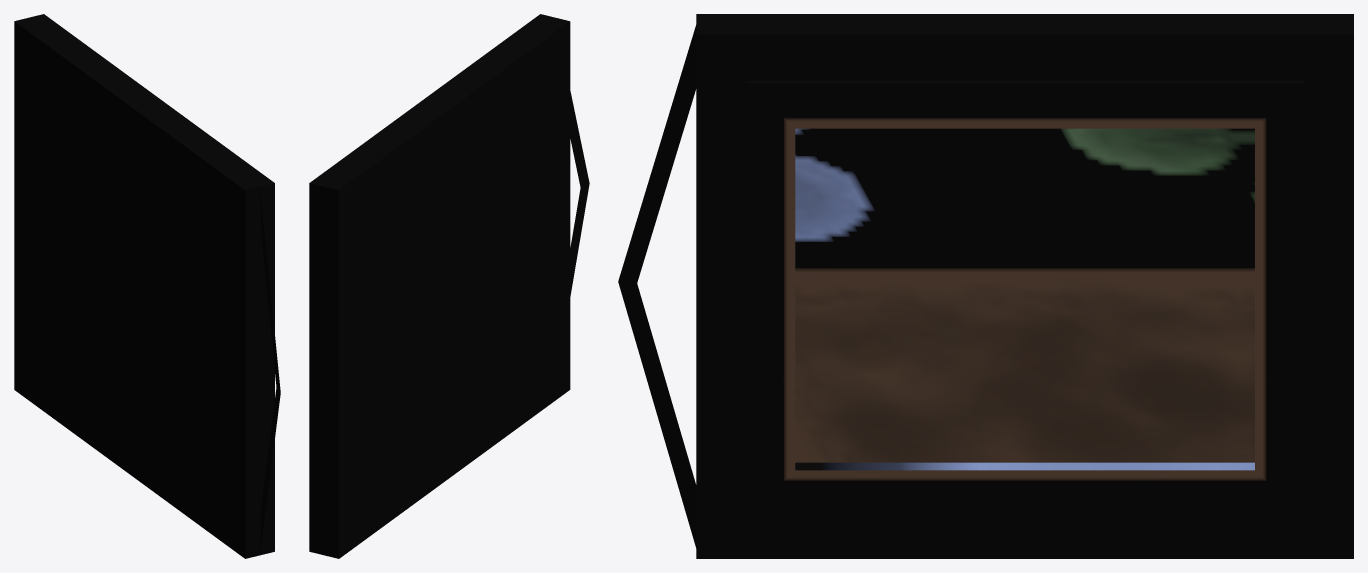
3 renders of one model, left to right at view 1: azimuth 30°, elevation 25°; view 2: azimuth 150°, elevation 25°; view 3: azimuth 270°, elevation 25°, orthographic. The views are drawn at different scales.
Size of the model in its own units: 0.045 by 0.4732 by 0.6018.
